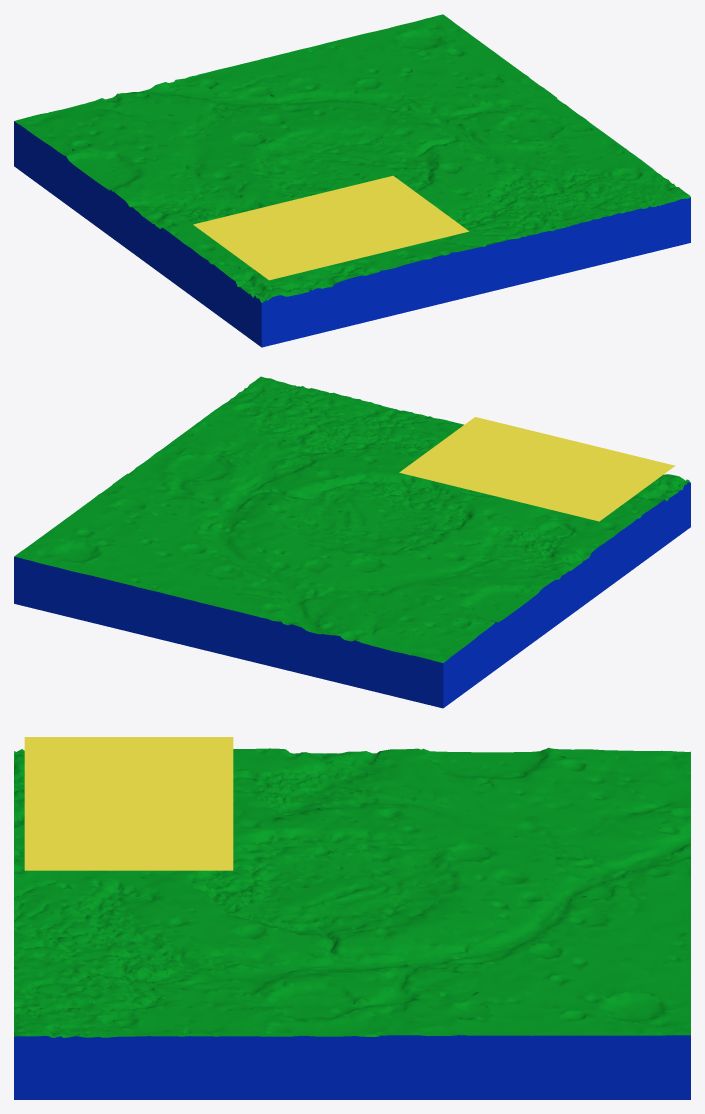
Rendered from mars_-_aram_chaos_region.glb.
3 views of the same model, one above another, from view 1: azimuth 30°, elevation 25°; view 2: azimuth 150°, elevation 25°; view 3: azimuth 270°, elevation 25° (orthographic). The views are drawn at different scales.
Parts seen in each view (by area): view 1: LP, Comparison; view 2: LP, Comparison; view 3: LP, Comparison.
Part boxes in pixels (x1,y1,x2,y2): LP: (14, 14, 690, 347); Comparison: (193, 176, 469, 280); LP: (14, 376, 690, 708); Comparison: (399, 417, 675, 521); LP: (14, 747, 690, 1099); Comparison: (24, 737, 233, 870).
Bounding box in the file's own units: 7497 × 1027 × 7495.
